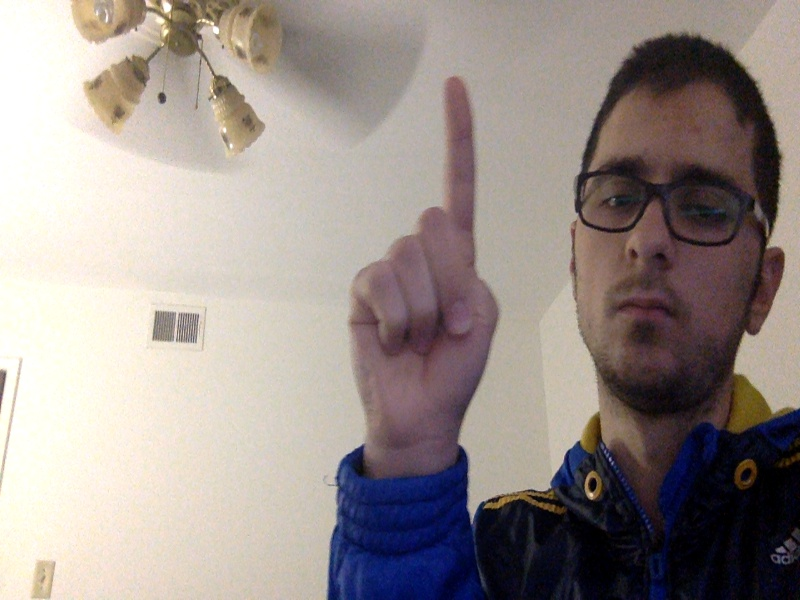1-hand: (347, 77, 500, 458)
